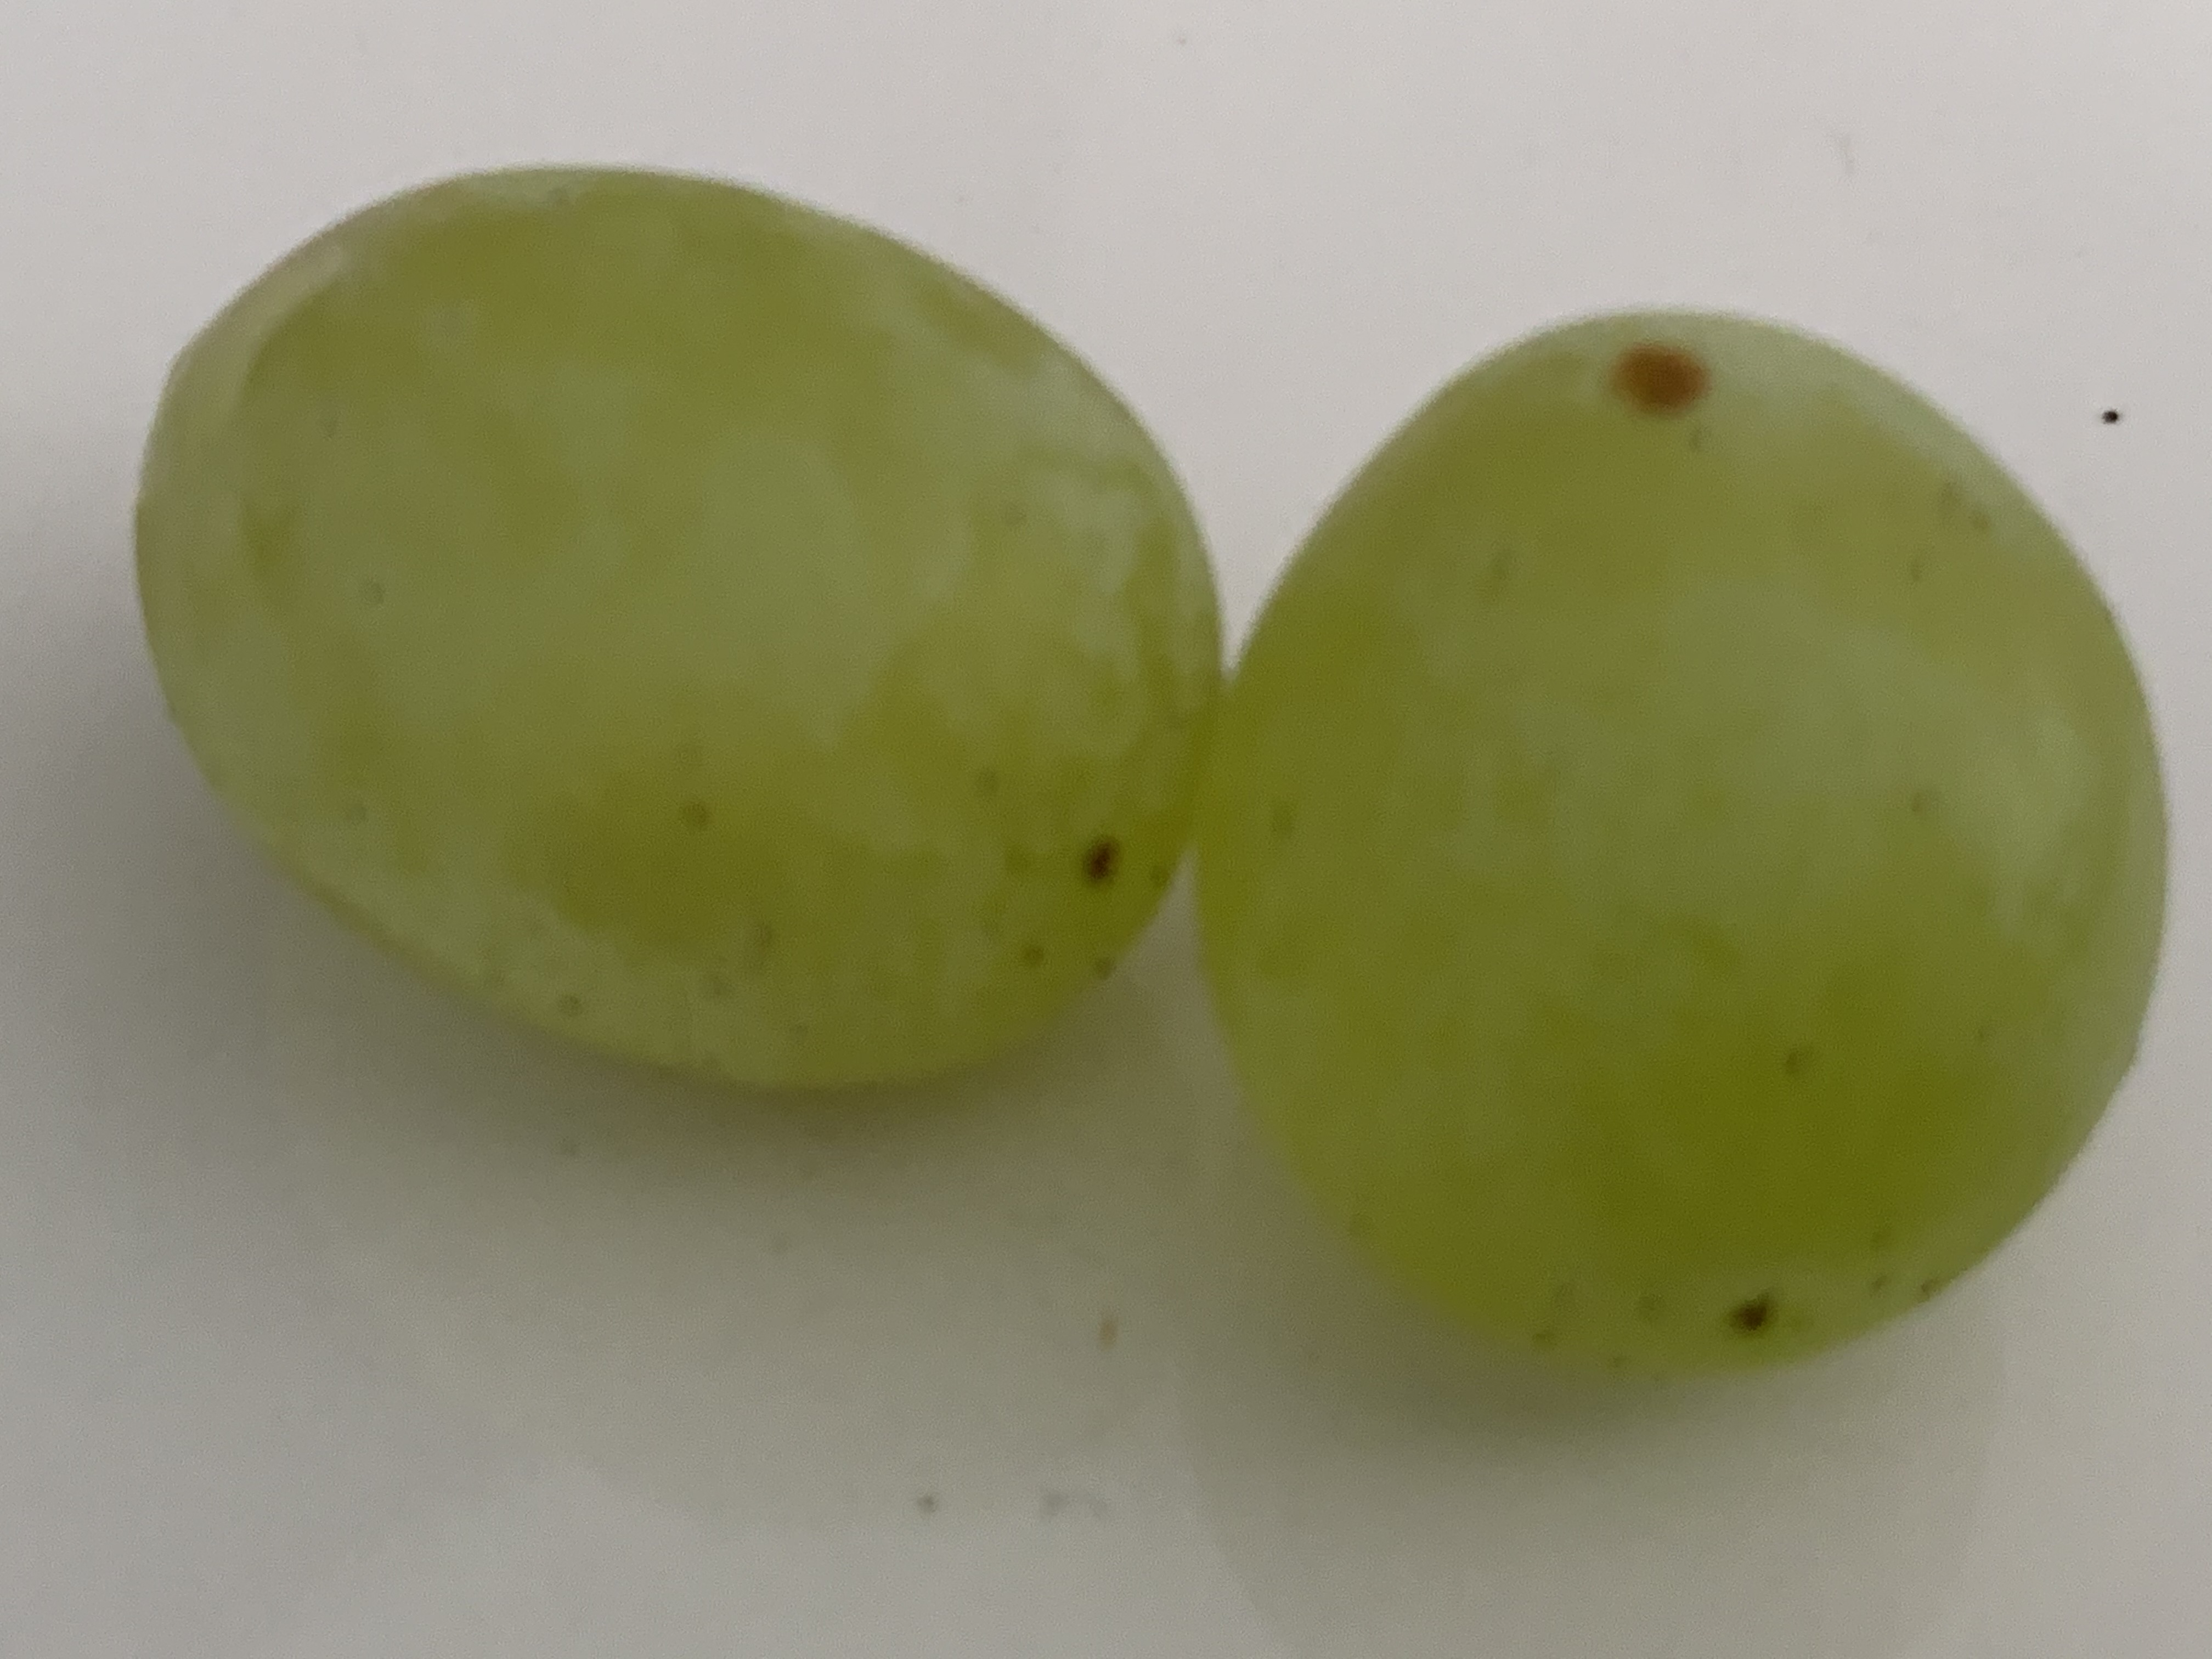grapes: (1214, 301, 2177, 1377), (155, 211, 1170, 1030)
